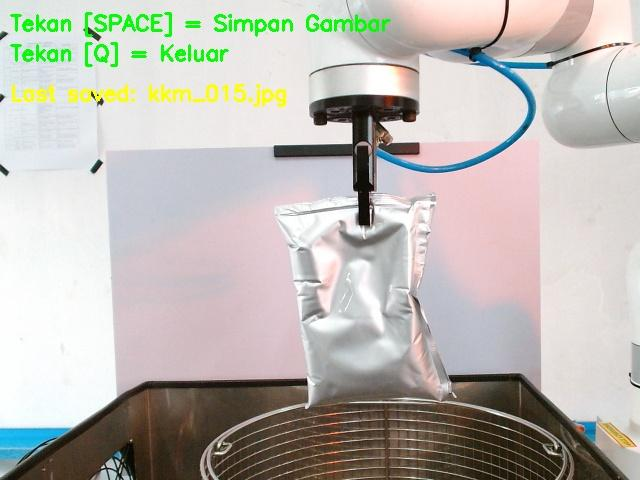retort-pouch: (272, 192, 457, 408)
